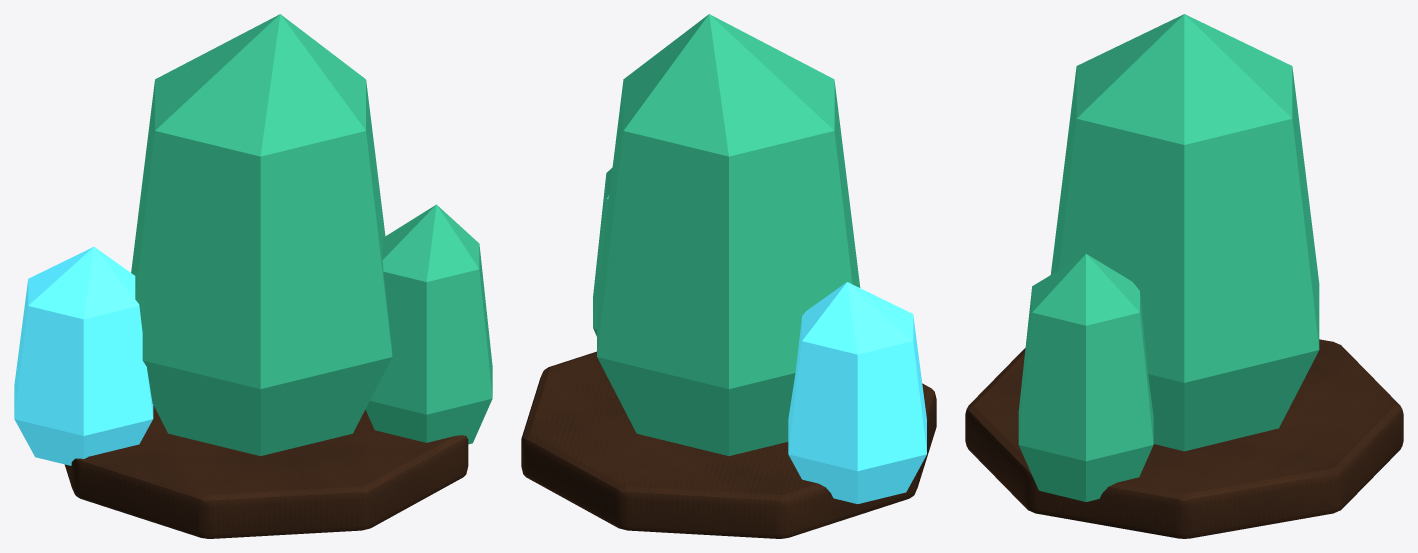
The model's file is relic_10.glb.
The picture shows the model from 3 angles, left to right: view 1: azimuth 30°, elevation 25°; view 2: azimuth 150°, elevation 25°; view 3: azimuth 270°, elevation 25°; orthographic projection. The views are drawn at different scales.
Visible parts, largest first — view 1: Cut_emerald, Patinated_bronze, Luminous_aquamarine; view 2: Cut_emerald, Patinated_bronze, Luminous_aquamarine; view 3: Cut_emerald, Patinated_bronze.
Boxes of the visible parts, bbox=[...] form: Cut_emerald: bbox=[131, 14, 492, 455]; Patinated_bronze: bbox=[64, 405, 468, 538]; Luminous_aquamarine: bbox=[14, 247, 153, 465]; Cut_emerald: bbox=[593, 14, 860, 455]; Patinated_bronze: bbox=[521, 351, 936, 538]; Luminous_aquamarine: bbox=[788, 282, 926, 504]; Cut_emerald: bbox=[1018, 14, 1319, 501]; Patinated_bronze: bbox=[965, 339, 1403, 538].
Size of the model in its own units: 0.5873 by 0.6 by 0.5346.
Materials: 3 (1 with a texture image).
